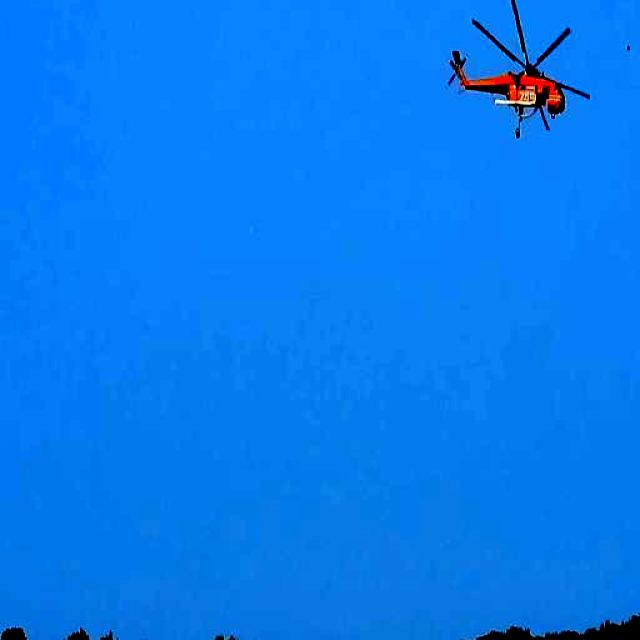drone: (448, 0, 592, 144)
